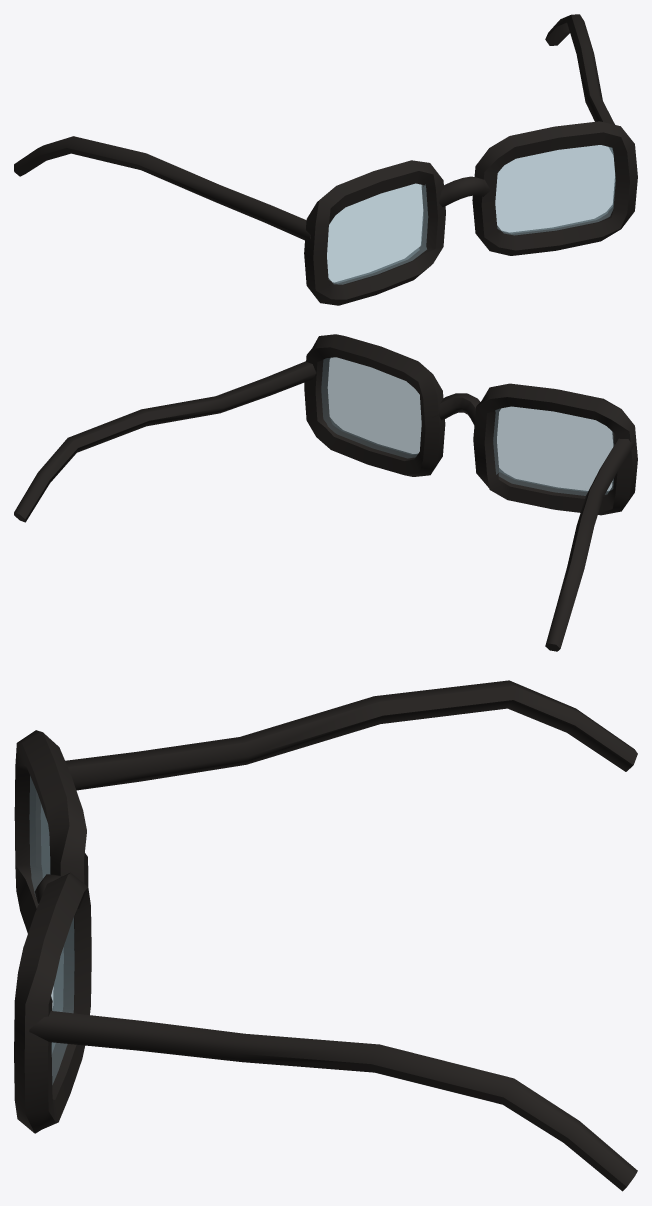
The model's file is Char_Face_Glasses.fbx.
3 renders of one model, top to bottom at view 1: azimuth 30°, elevation 25°; view 2: azimuth 150°, elevation 25°; view 3: azimuth 270°, elevation 25°, orthographic. The views are drawn at different scales.
Visible parts, largest first — view 1: Frame, Lens; view 2: Frame, Lens; view 3: Frame, Lens.
Boxes of the visible parts, left/top/right/bottom form: Frame: left=14, top=14, right=637, bottom=305; Lens: left=327, top=145, right=615, bottom=284; Frame: left=14, top=334, right=637, bottom=651; Lens: left=321, top=357, right=613, bottom=495; Frame: left=14, top=680, right=637, bottom=1191; Lens: left=29, top=776, right=74, bottom=1084.
Bounding box in the file's own units: 142 × 30.53 × 87.05.
